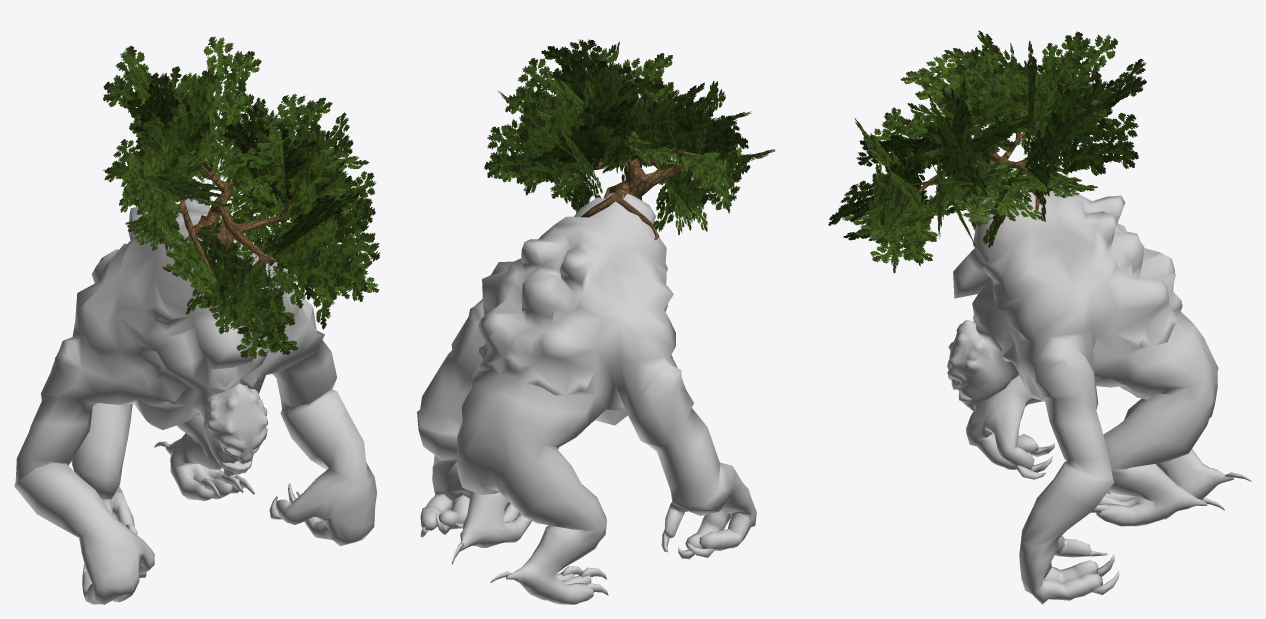
The model's file is forest-monster-final_FIXED.obj.
3 renders of one model, left to right at view 1: azimuth 30°, elevation 25°; view 2: azimuth 150°, elevation 25°; view 3: azimuth 270°, elevation 25°, orthographic. The views are drawn at different scales.
Visible parts, largest first — view 1: Monster, Tree; view 2: Monster, Tree; view 3: Monster, Tree.
Boxes of the visible parts, <box> form: Monster: <box>14,198,376,604</box>; Tree: <box>102,36,379,359</box>; Monster: <box>417,192,756,604</box>; Tree: <box>484,39,775,239</box>; Monster: <box>947,186,1251,604</box>; Tree: <box>828,30,1146,273</box>.
Size of the model in its own units: 22.5 by 34.47 by 27.47.
